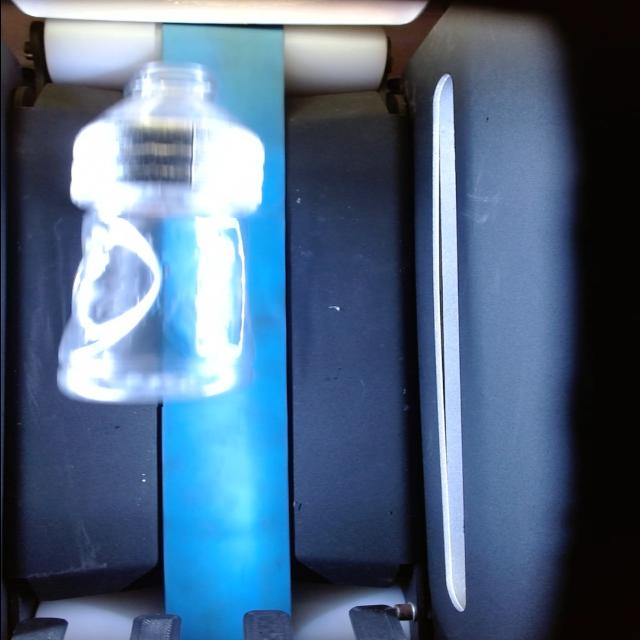bottom: (50, 219, 247, 407)
label: (70, 115, 277, 216)
neck: (117, 60, 231, 119)
